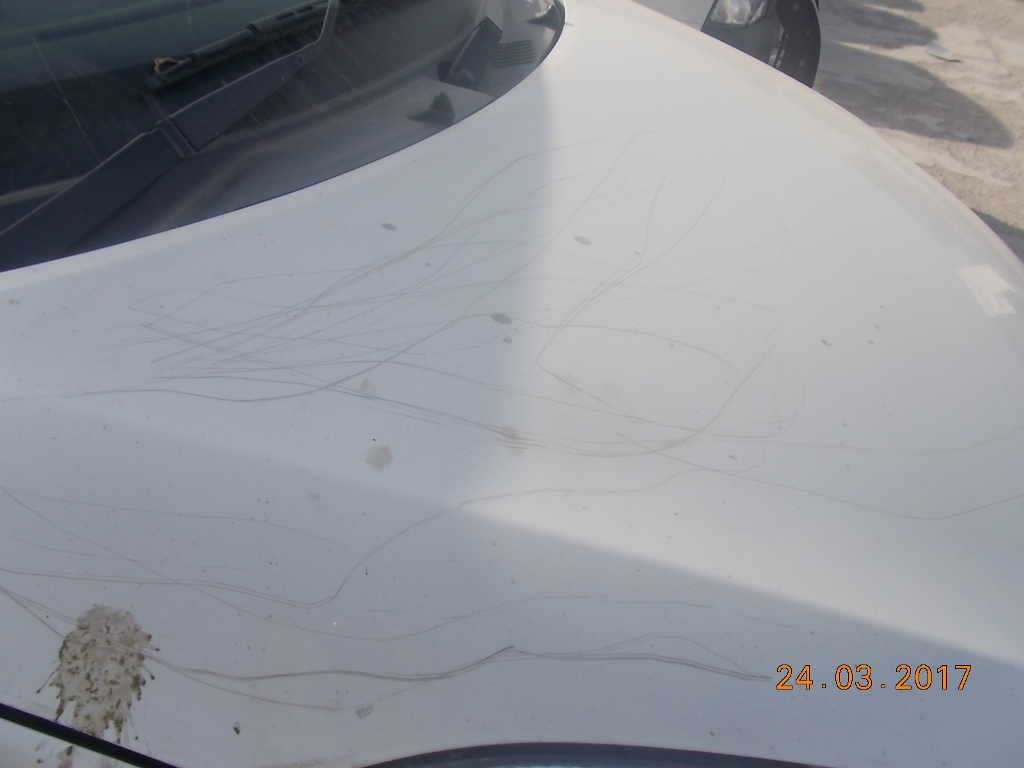Scratch_or_spot: (102, 261, 374, 436), (177, 526, 418, 687), (392, 196, 585, 346)
